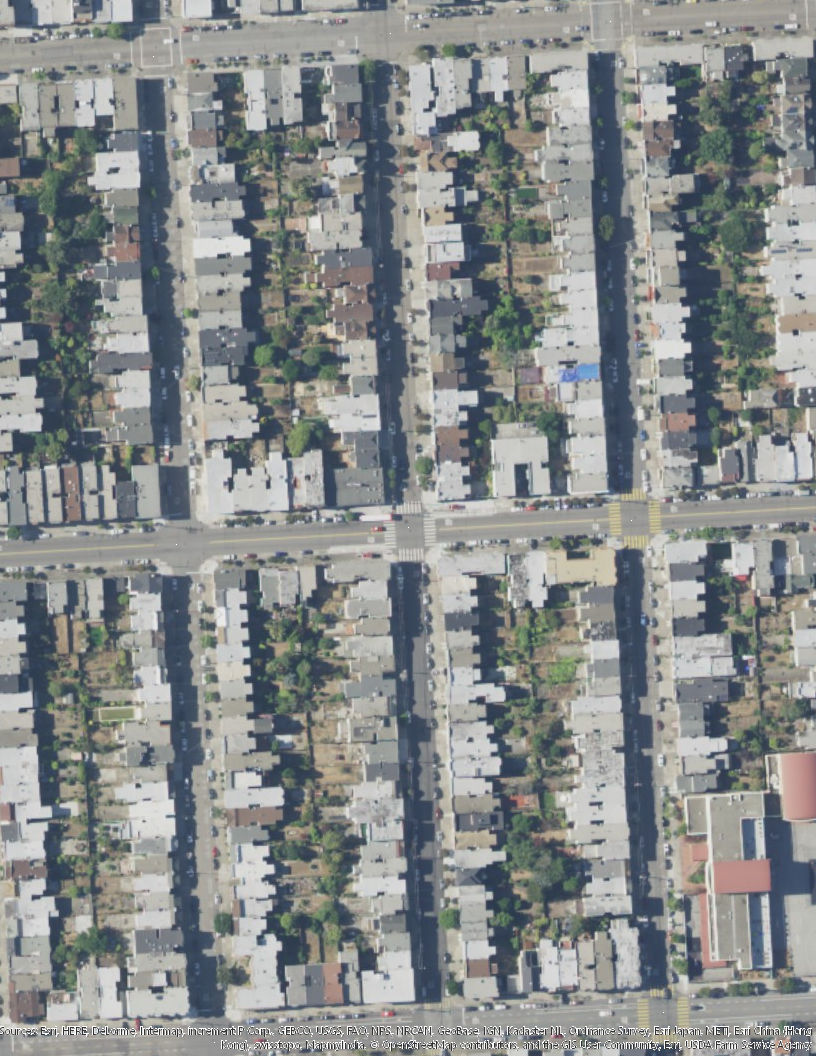zebracross: (636, 1000, 651, 1031), (383, 516, 397, 549), (609, 502, 623, 535), (392, 500, 424, 514), (423, 514, 437, 546), (649, 501, 662, 534), (621, 487, 649, 502), (623, 535, 649, 549), (678, 997, 689, 1028), (648, 984, 674, 997), (399, 548, 424, 561)
